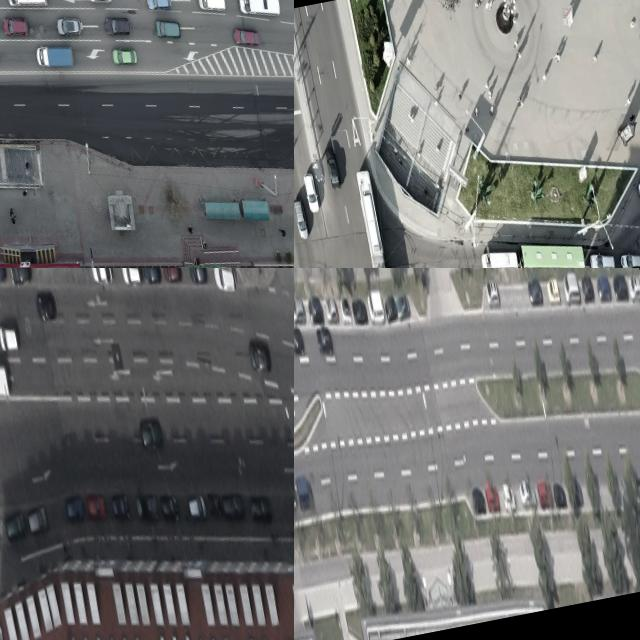UAI: (246, 337, 273, 376), (0, 12, 32, 41), (232, 23, 262, 53), (138, 417, 164, 451), (154, 14, 183, 44), (54, 13, 85, 41), (102, 12, 133, 40), (110, 44, 141, 71), (134, 492, 159, 524), (249, 494, 274, 526), (324, 146, 342, 190), (303, 171, 321, 214), (34, 290, 58, 322), (3, 511, 28, 541), (561, 270, 581, 306), (366, 288, 386, 324), (187, 492, 209, 524), (211, 268, 238, 294), (295, 475, 315, 510), (221, 492, 245, 521), (26, 505, 49, 535), (314, 324, 334, 358), (294, 198, 310, 240), (160, 492, 181, 524), (110, 492, 132, 522), (518, 478, 537, 509), (64, 496, 85, 524), (87, 495, 108, 523), (594, 271, 612, 303), (307, 293, 325, 325), (0, 322, 19, 352), (484, 278, 501, 310), (536, 479, 554, 509), (611, 272, 629, 302), (588, 249, 616, 268), (544, 275, 561, 305), (500, 480, 516, 511), (206, 490, 223, 519), (471, 484, 487, 514), (551, 479, 567, 509), (580, 273, 596, 303), (484, 483, 500, 512), (526, 279, 543, 306), (394, 294, 411, 321), (351, 298, 368, 325), (626, 271, 640, 303), (7, 268, 33, 285), (145, 0, 174, 15), (89, 268, 113, 286), (383, 294, 398, 322), (338, 296, 352, 326), (120, 268, 143, 285), (324, 297, 339, 323), (619, 250, 640, 268), (186, 268, 208, 285), (141, 268, 162, 285), (294, 327, 306, 356), (161, 268, 183, 283), (294, 295, 305, 324), (86, 0, 115, 7), (294, 482, 298, 510)
UAP: (34, 40, 77, 77)
car: (352, 169, 398, 268), (517, 233, 586, 268)
harvester: (237, 0, 283, 23), (479, 246, 519, 268), (194, 0, 228, 18), (5, 0, 49, 13), (0, 360, 11, 401)
